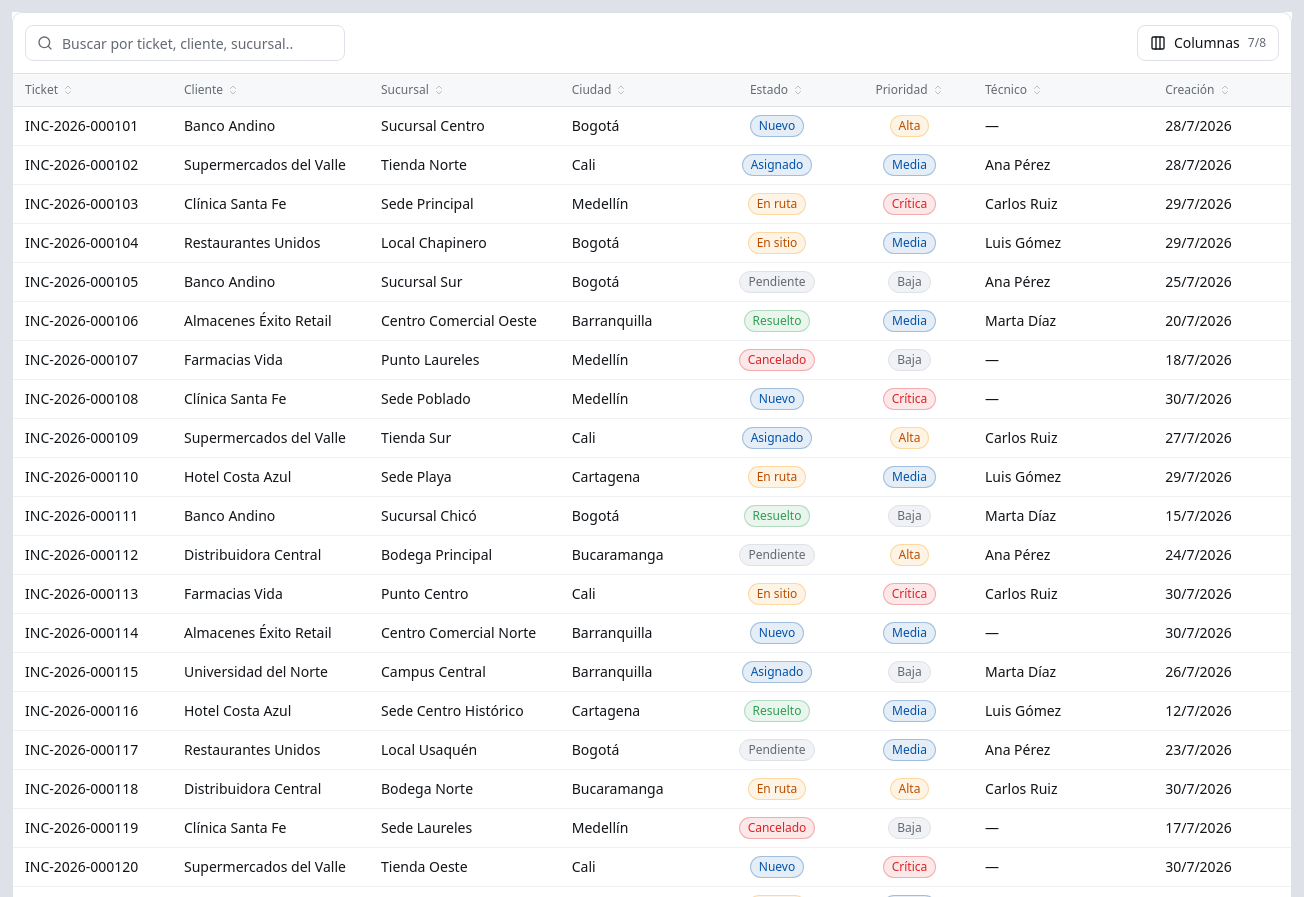
Scenario: Tabla de Tickets › ofrece búsqueda de columnas porque el módulo declara nueve
Step 1. Click the button "Columnas 7/8" → (1208, 43), box [1137,25,1279,61]
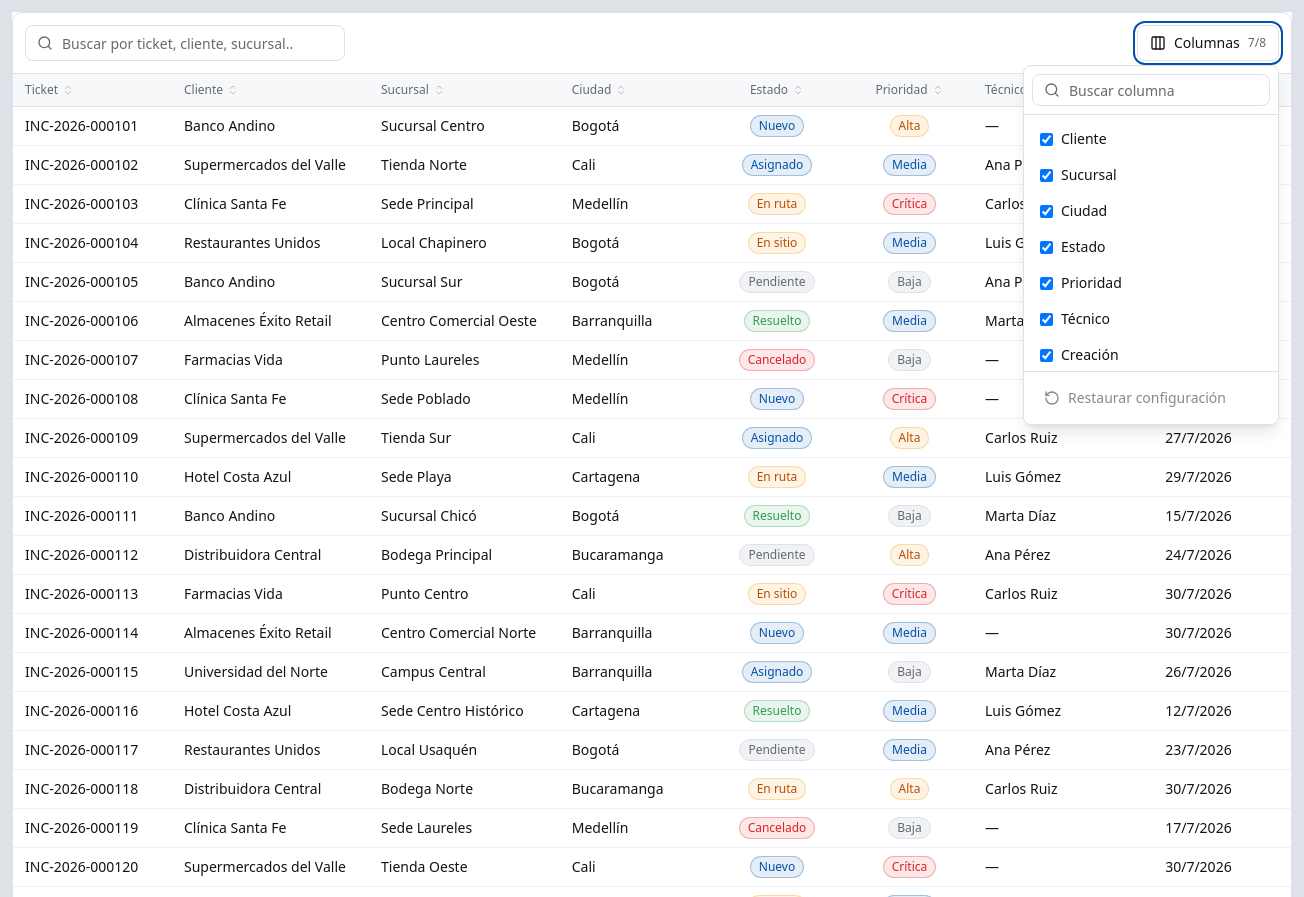
Result: the search field labelled "Buscar columna" is shown at [1032,74,1270,106]
